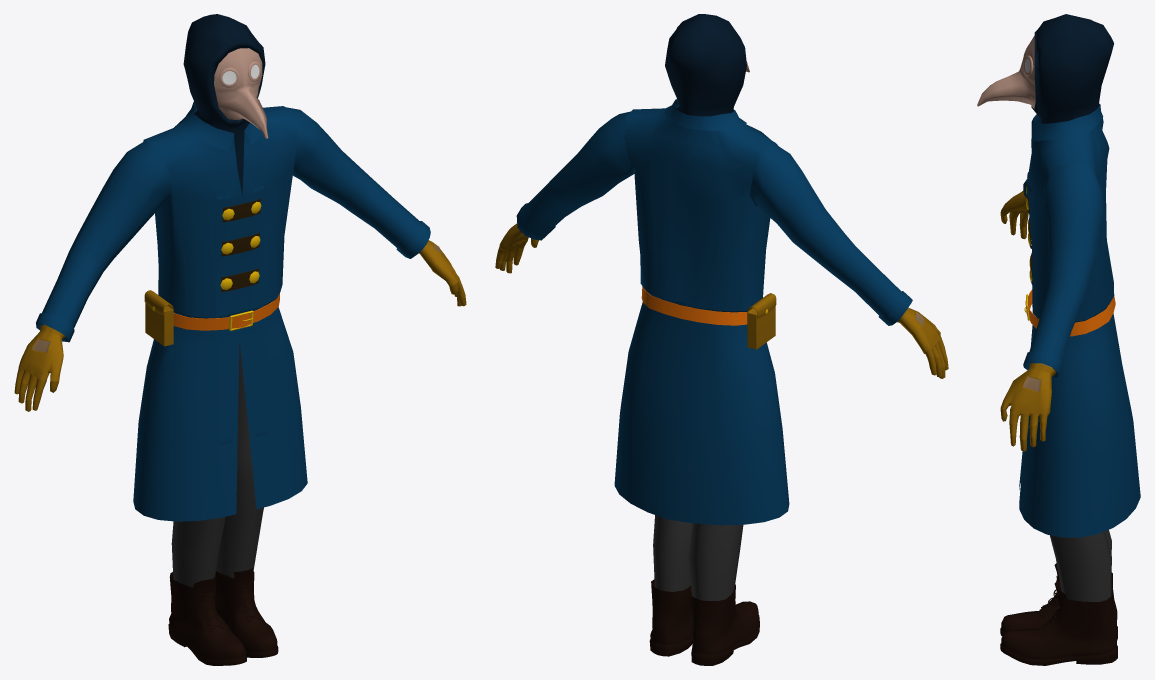
File: Eagel_mod_master(WithID).fbx
The picture shows the model from 3 angles, left to right: view 1: azimuth 30°, elevation 25°; view 2: azimuth 150°, elevation 25°; view 3: azimuth 270°, elevation 25°; orthographic projection.
Visible parts, largest first — view 1: Cloth, Pants, Hat, Shoe_R, Shoe_L, Mask, Glove_With_Arm_R, Belt, polySurface2, Glove_With_Arm_L; view 2: Cloth, Hat, Pants, Shoe_R, Shoe_L, Glove_With_Arm_R, Belt, polySurface2, Glove_With_Arm_L; view 3: Cloth, Hat, Shoe_L, Pants, Glove_With_Arm_L, Mask, Shoe_R, Belt, Glove_With_Arm_R.
Boxes of the visible parts, x1,y1,x2,y2 form: Cloth: (36, 101, 430, 521); Pants: (171, 342, 263, 587); Hat: (183, 14, 265, 196); Shoe_R: (168, 572, 246, 665); Shoe_L: (215, 568, 278, 657); Mask: (214, 48, 268, 138); Glove_With_Arm_R: (14, 324, 65, 411); Belt: (173, 293, 279, 330); polySurface2: (144, 290, 173, 346); Glove_With_Arm_L: (419, 240, 466, 306); Cloth: (516, 99, 912, 525); Hat: (665, 14, 746, 116); Pants: (653, 515, 743, 600); Shoe_R: (690, 584, 759, 665); Shoe_L: (649, 579, 693, 656); Glove_With_Arm_R: (897, 307, 948, 378); Belt: (641, 286, 747, 325); polySurface2: (747, 293, 776, 349); Glove_With_Arm_L: (495, 223, 538, 273); Cloth: (1019, 103, 1140, 537); Hat: (1031, 14, 1113, 123); Shoe_L: (1000, 581, 1117, 665); Pants: (1050, 530, 1111, 602); Glove_With_Arm_L: (1000, 363, 1056, 451); Mask: (977, 36, 1035, 108); Shoe_R: (1000, 563, 1117, 639); Belt: (1024, 289, 1115, 336); Glove_With_Arm_R: (1000, 191, 1028, 239).
Bounding box in the file's own units: 135 × 183 × 42.86.
